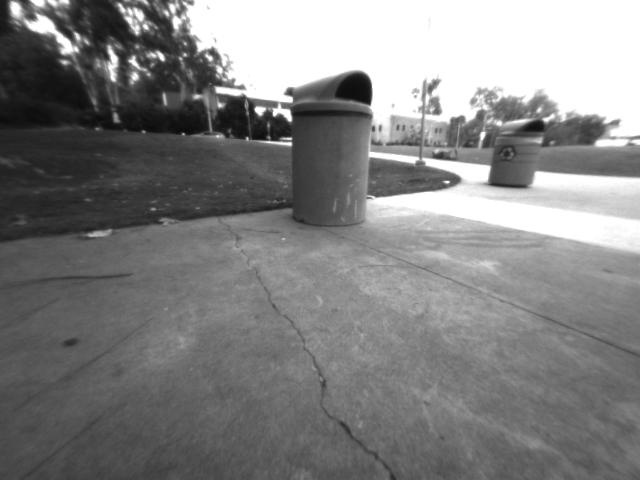trashcan: (286, 68, 382, 229)
